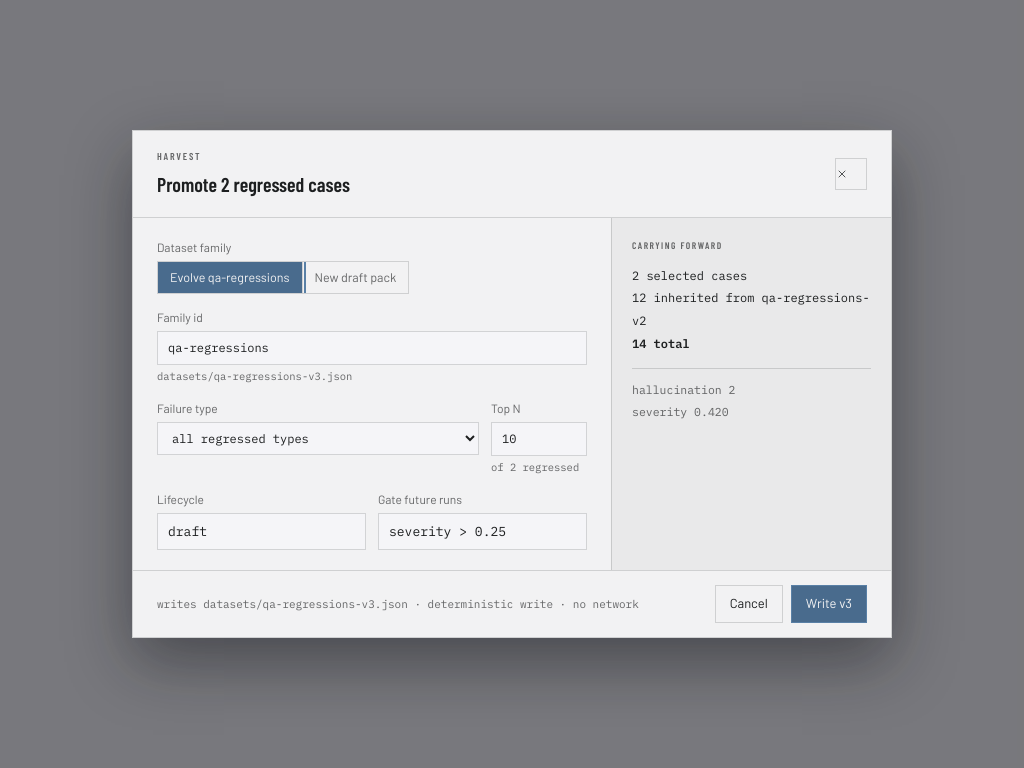
Scenario: HarvestDialog › Write posts to dataset-evolve.json and shows the receipt with outputPath
Click the button "Write v3" at (829, 604), box [791,585,867,623]
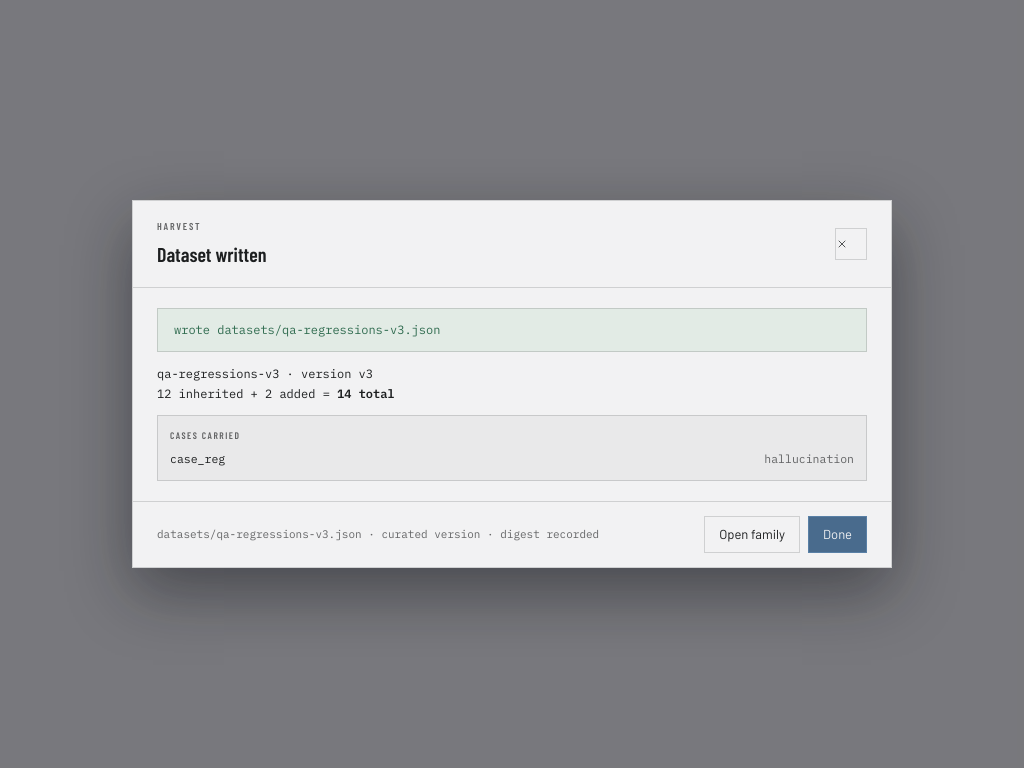
Now the text "Dataset written" is shown, box [157,239,266,269]
